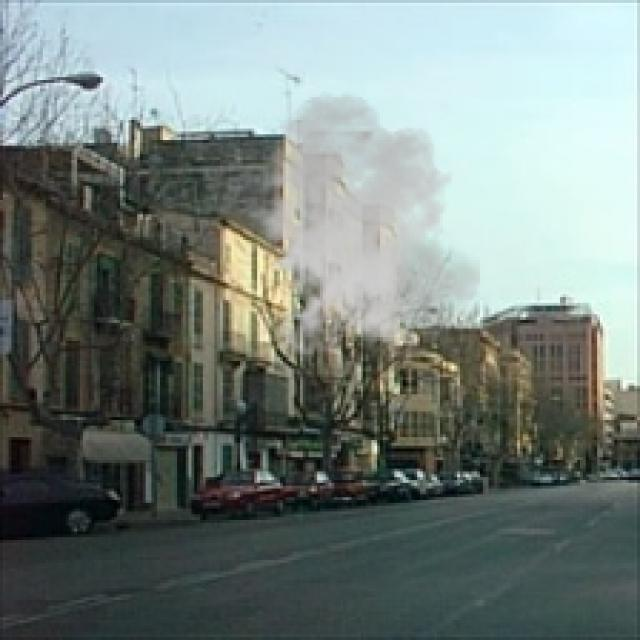smoke: (237, 91, 480, 363)
